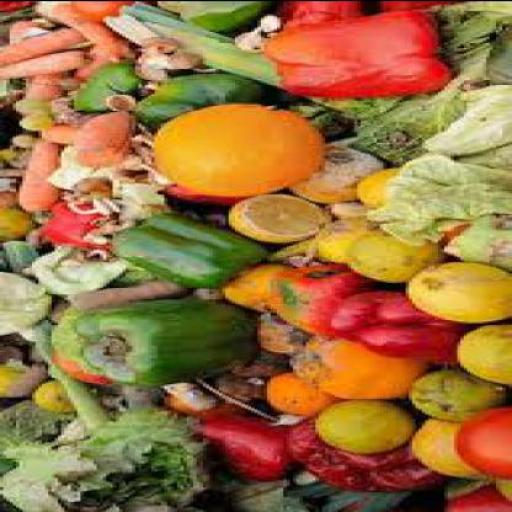biodegradable: (0, 1, 511, 511), (106, 4, 380, 118), (302, 1, 509, 121), (0, 399, 208, 511), (0, 241, 103, 433), (71, 299, 254, 387), (354, 45, 489, 164), (265, 10, 444, 98), (148, 106, 318, 198), (364, 154, 509, 248), (283, 412, 438, 495), (103, 215, 258, 288), (326, 288, 464, 362), (287, 336, 428, 400), (261, 264, 377, 337), (190, 411, 300, 483), (122, 74, 260, 128), (402, 259, 508, 326), (415, 86, 509, 158), (284, 146, 383, 206), (219, 193, 329, 245), (36, 3, 132, 60), (313, 399, 412, 454), (342, 229, 441, 283), (406, 370, 502, 424), (29, 247, 135, 295), (161, 375, 264, 420), (203, 472, 319, 511), (210, 262, 296, 314), (151, 1, 287, 31), (61, 280, 186, 312), (441, 212, 509, 270), (454, 407, 508, 480), (67, 64, 148, 112), (306, 217, 380, 269), (13, 143, 58, 224), (451, 324, 509, 386), (409, 418, 470, 476), (0, 270, 52, 337), (283, 485, 412, 511), (71, 116, 132, 170), (36, 204, 103, 249), (0, 30, 81, 66), (260, 375, 332, 415), (0, 50, 86, 82), (270, 2, 374, 28), (106, 174, 160, 219), (444, 475, 510, 511), (45, 146, 97, 190), (251, 314, 303, 354), (222, 351, 290, 380), (160, 185, 252, 206), (58, 2, 144, 24), (0, 357, 42, 401), (350, 167, 392, 206), (447, 144, 509, 170), (100, 384, 161, 410), (0, 241, 42, 276), (65, 51, 109, 81), (26, 384, 70, 414), (0, 206, 36, 242), (46, 100, 94, 126), (161, 386, 209, 412), (4, 18, 48, 44), (367, 2, 460, 14), (264, 241, 312, 262), (68, 179, 110, 203), (132, 53, 164, 84), (129, 38, 177, 58), (154, 52, 202, 72), (20, 70, 74, 86), (251, 9, 283, 34), (35, 126, 75, 146), (68, 201, 116, 217), (228, 32, 264, 52), (12, 114, 52, 132), (119, 206, 158, 224), (19, 85, 61, 100), (6, 102, 48, 116), (74, 227, 106, 244), (184, 288, 216, 304), (102, 95, 128, 114), (0, 342, 23, 363), (0, 191, 16, 211), (100, 222, 129, 233), (128, 86, 154, 96), (6, 136, 32, 146), (0, 149, 14, 161)
